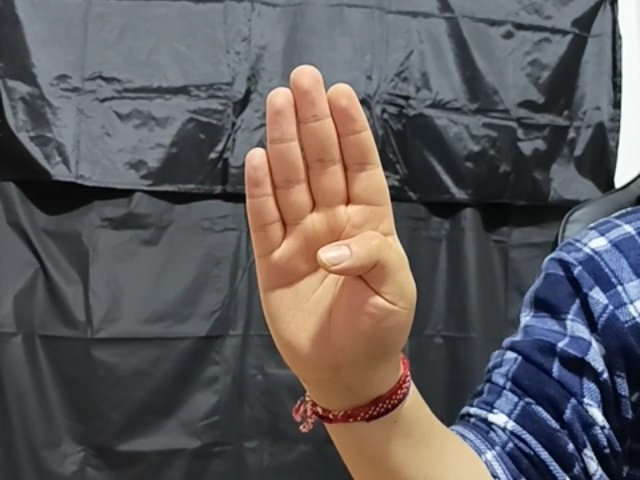B: (239, 62, 423, 379)
